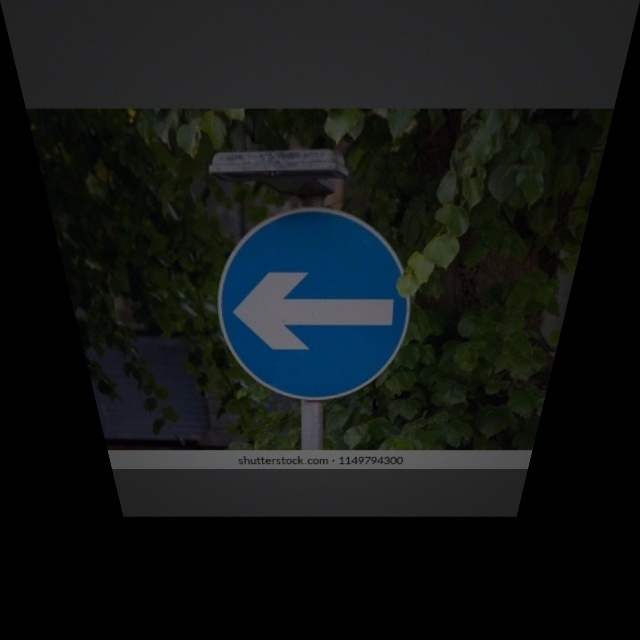Compulsory_Turn_Left: (211, 203, 417, 401)
